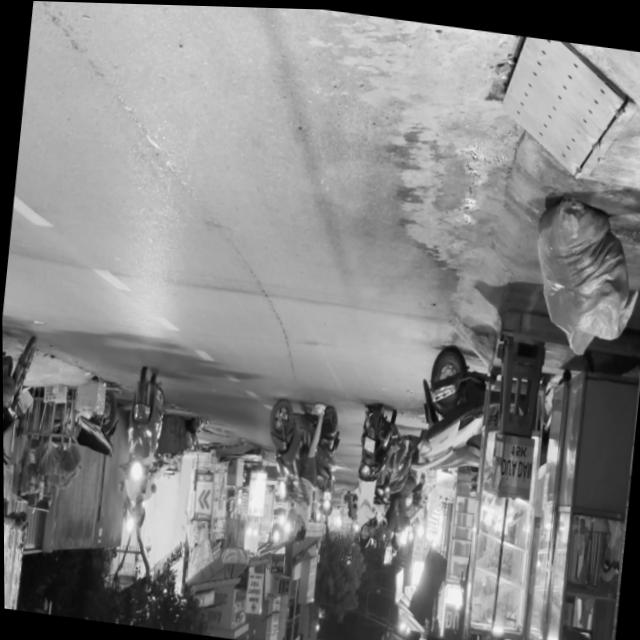licenseplate: (112, 360, 170, 536), (2, 313, 42, 535)
